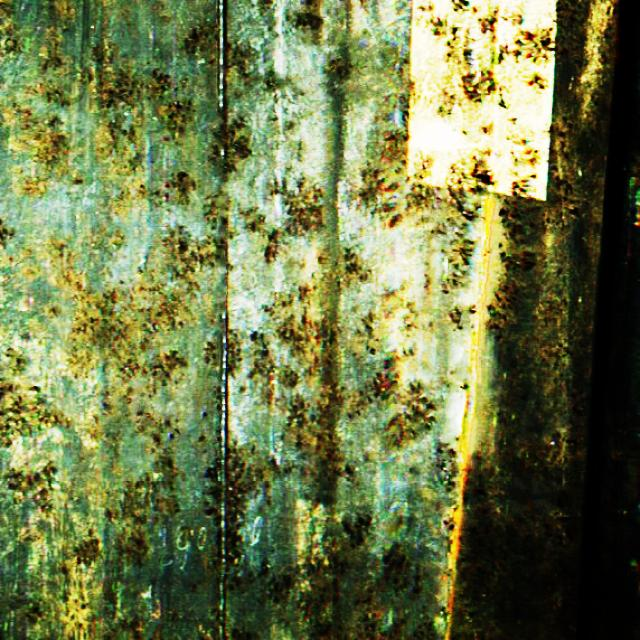Corrosion: (445, 197, 496, 613)
